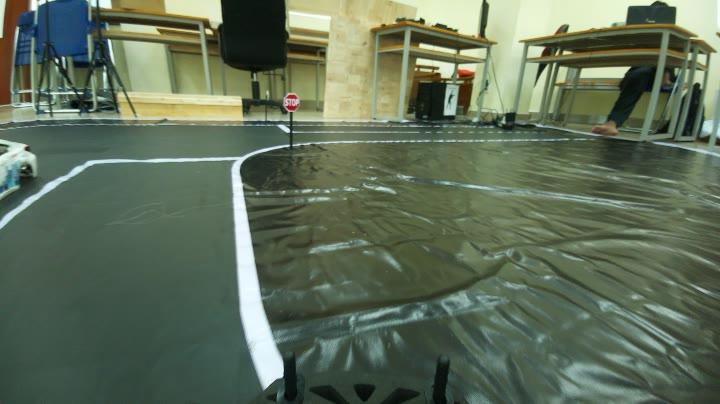stop: (282, 90, 308, 118)
